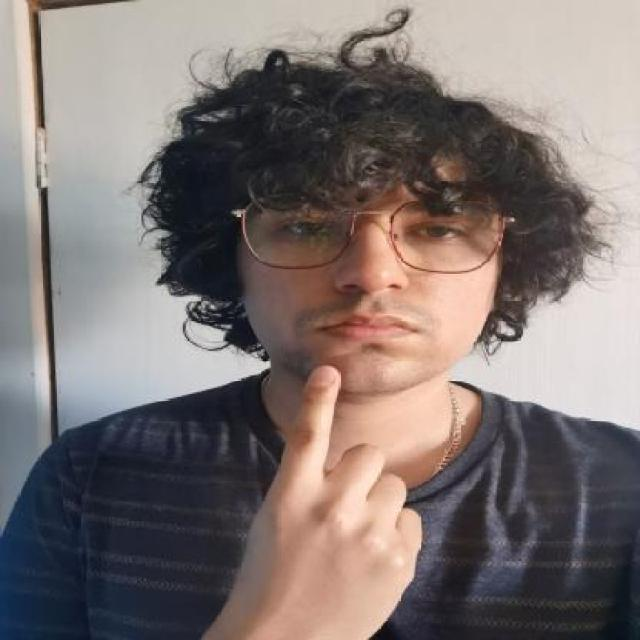T: (242, 360, 427, 631)
